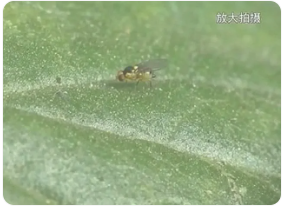liriomyza: (113, 57, 164, 85)
